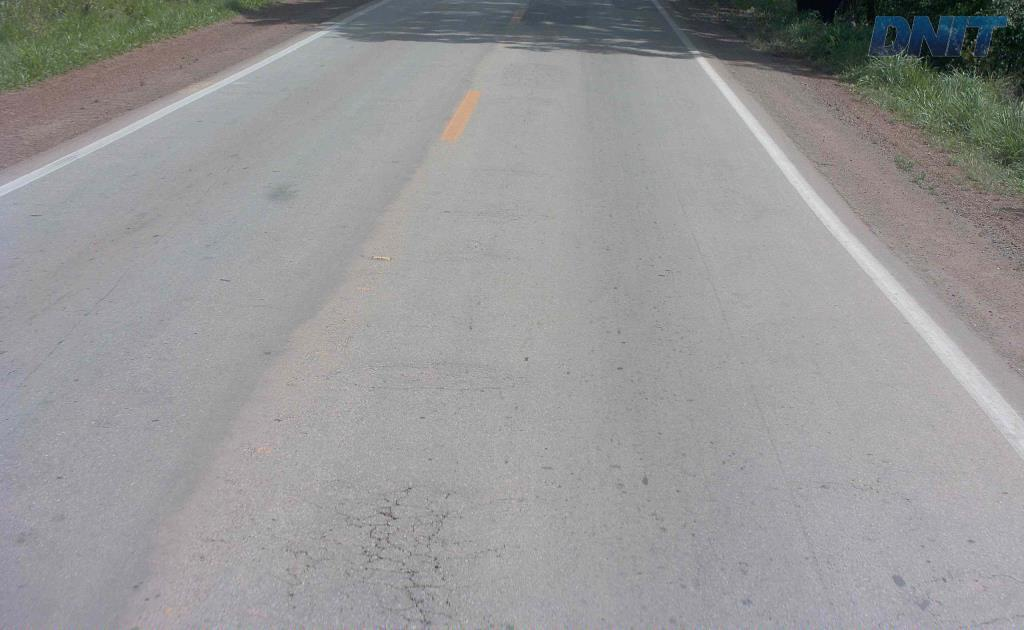crack: (359, 496, 440, 629), (404, 503, 450, 583)
